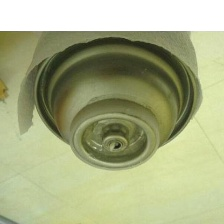aerosol_cans: (25, 0, 200, 179)
